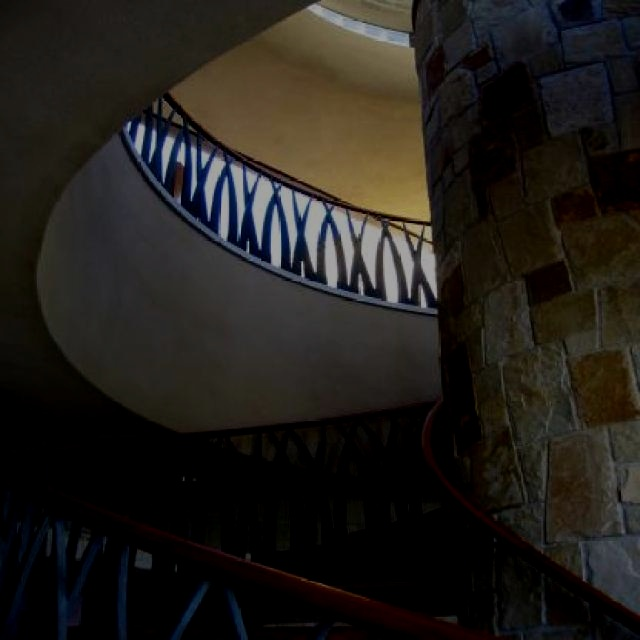stair: (68, 498, 455, 640)
